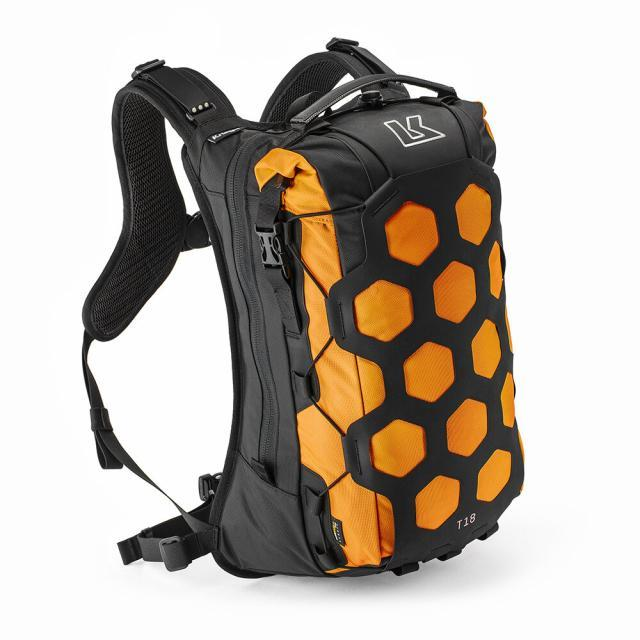Backpacks: (178, 75, 528, 582)
